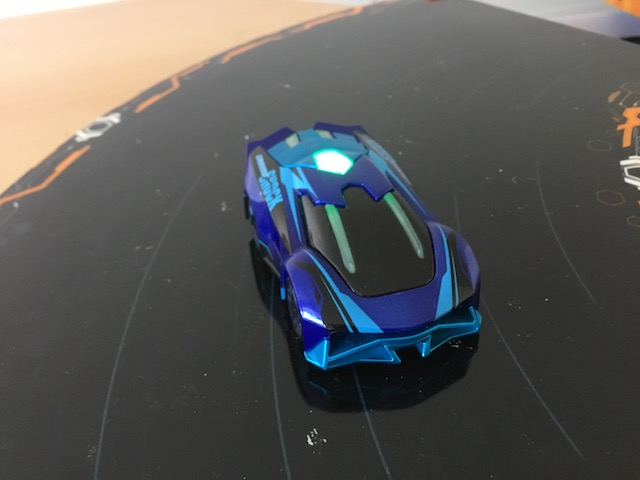car-blue: (233, 116, 487, 383)
